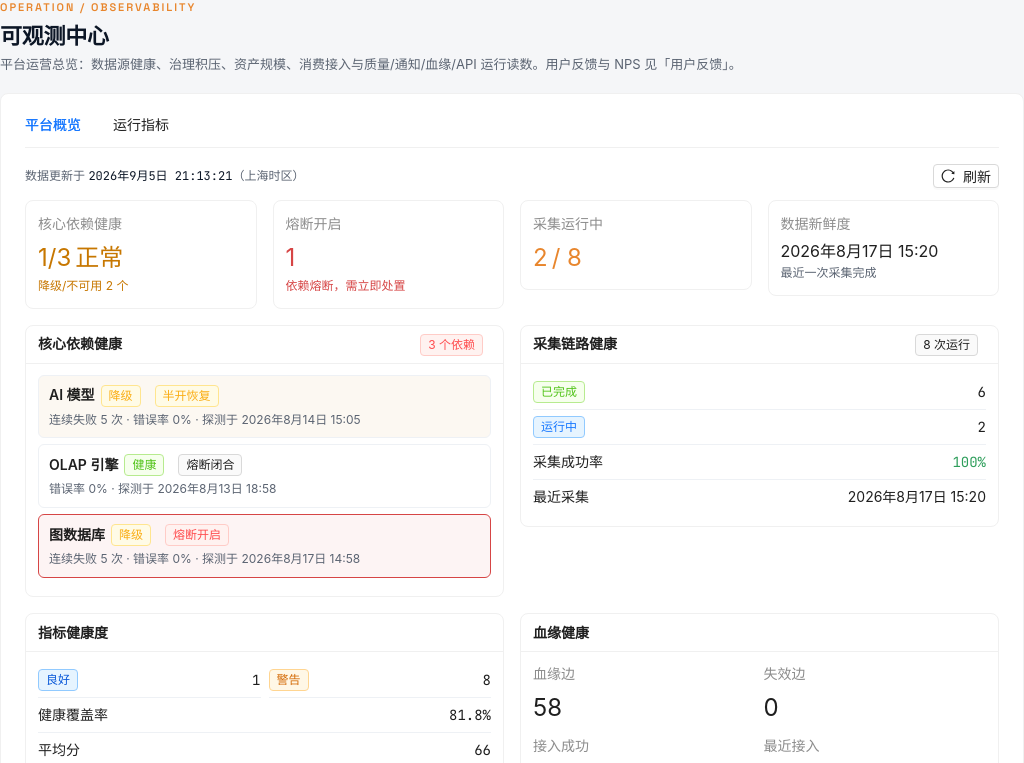
Test case: Observability 可观测中心 › 运行指标 Tab 的 API 动作分布用中文标签而非技术 action
The width and height of the screenshot is (1024, 763).
expect the tab "平台概览" is shown: met, box [25,114,81,136]
Step 1. Click the tab "运行指标" → x=141, y=125, box [113,114,169,136]
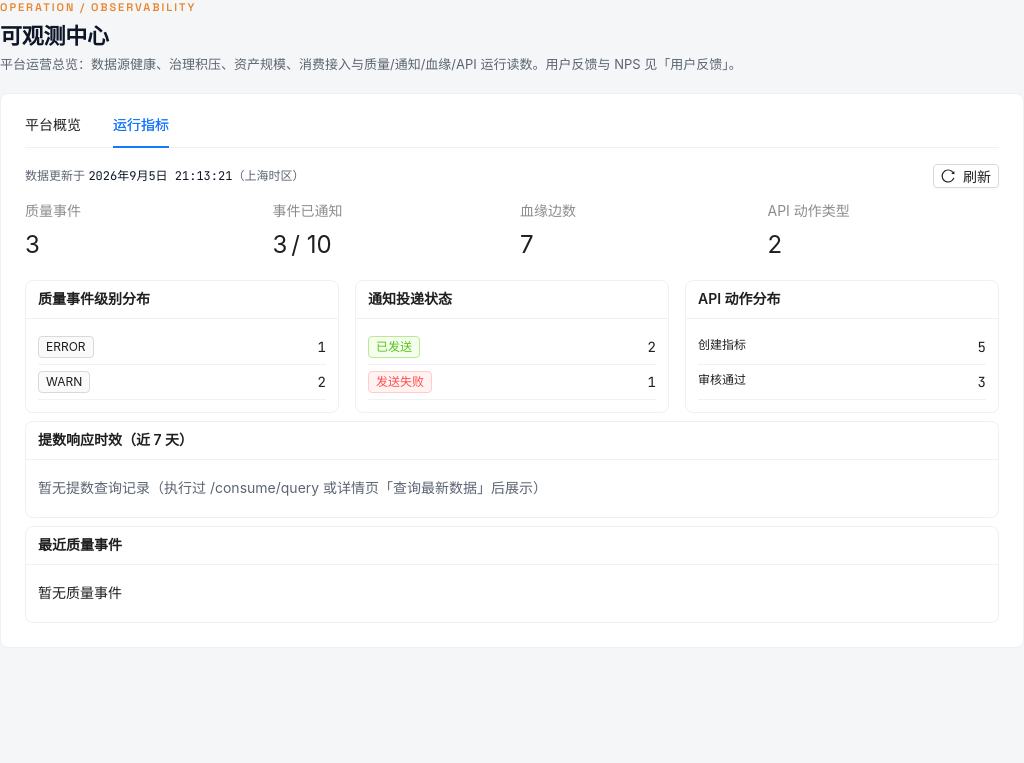
expect the text "API 动作分布" is shown: met, box [698,290,781,307]
expect the text "创建指标" is shown: met, box [698,336,746,358]
expect the text "审核通过" is shown: met, box [698,371,746,393]
